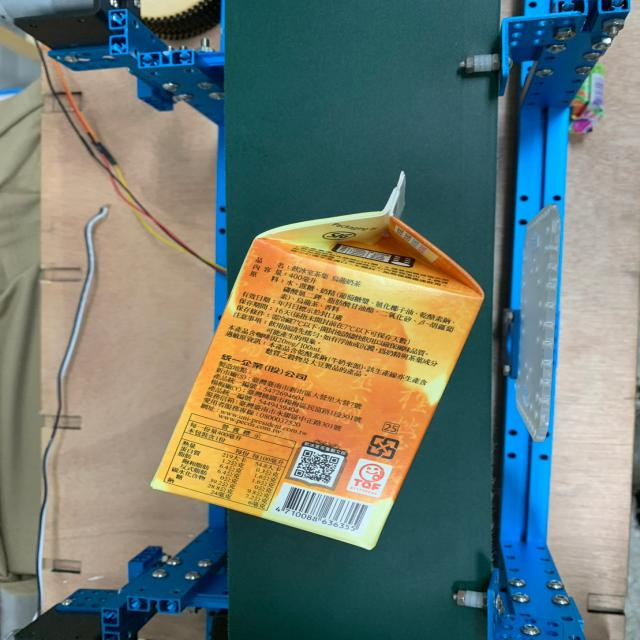non_white_jug: (81, 156, 536, 582)
